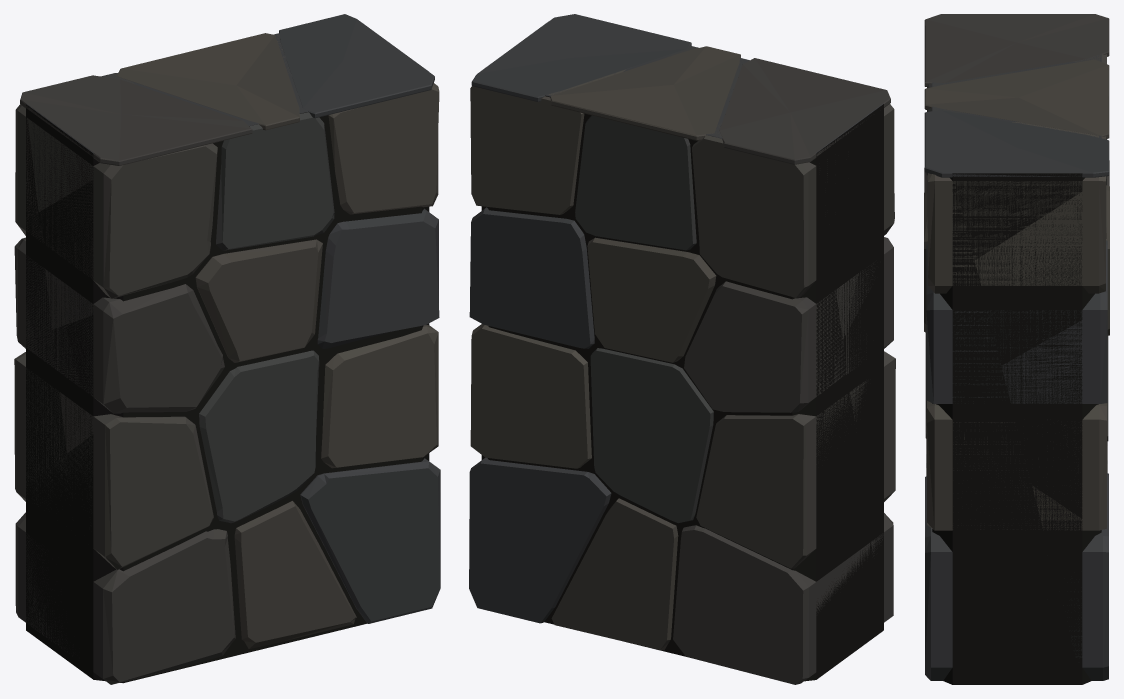
The model's file is Wall_2m_C.fbx.
The picture shows the model from 3 angles, left to right: view 1: azimuth 30°, elevation 25°; view 2: azimuth 150°, elevation 25°; view 3: azimuth 270°, elevation 25°; orthographic projection. The views are drawn at different scales.
Parts seen in each view (by area): view 1: Wall_2m_C; view 2: Wall_2m_C; view 3: Wall_2m_C.
Boxes of the visible parts, box(x1,y1,x2,y2) form: Wall_2m_C: box(14, 14, 440, 684); Wall_2m_C: box(469, 14, 895, 684); Wall_2m_C: box(924, 14, 1109, 684).
Bounding box in the file's own units: 2 × 3 × 0.9875.
1 material, 1 textured.
